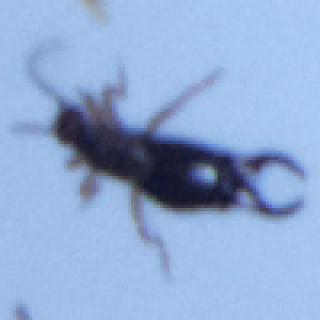earwig: (10, 36, 309, 274)
